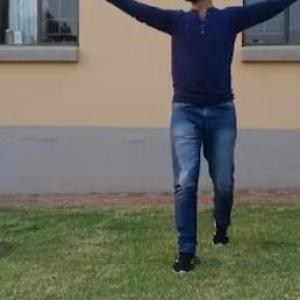takeoff: (173, 0, 300, 186)
